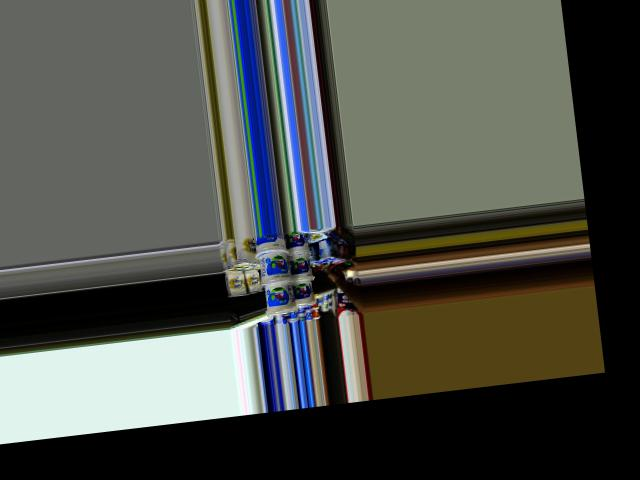cotage: (285, 251, 312, 282)
